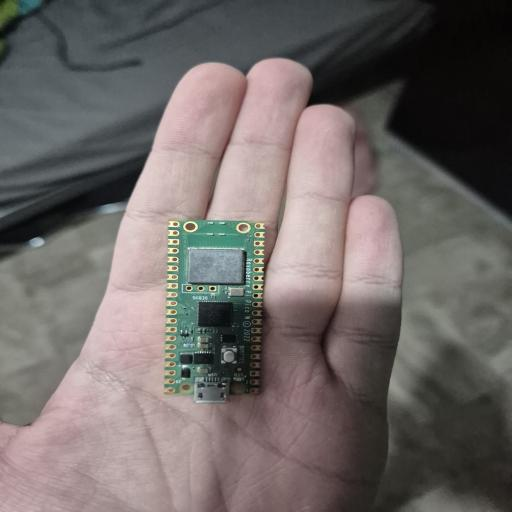raspberry-pi-pico-w: (165, 220, 265, 403)
